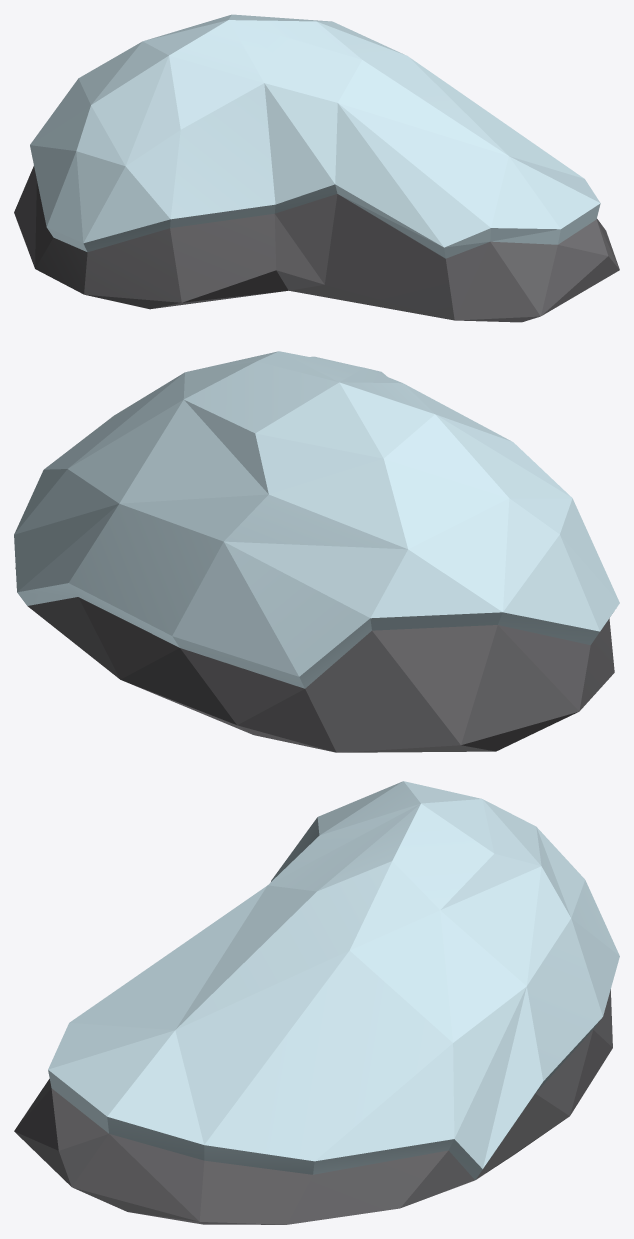
File: Roca02.glb
3 views of the same model, one above another, from view 1: azimuth 30°, elevation 25°; view 2: azimuth 150°, elevation 25°; view 3: azimuth 270°, elevation 25° (orthographic). The views are drawn at different scales.
Visible parts, largest first — view 1: SM_Env_Rock_01_Snow; view 2: SM_Env_Rock_01_Snow; view 3: SM_Env_Rock_01_Snow.
Part boxes in pixels (x1,y1,x2,y2): SM_Env_Rock_01_Snow: (14, 14, 619, 322); SM_Env_Rock_01_Snow: (14, 351, 619, 752); SM_Env_Rock_01_Snow: (14, 781, 619, 1224).
Size of the model in its own units: 1.71 by 0.8233 by 1.57.
1 material, 1 textured.
